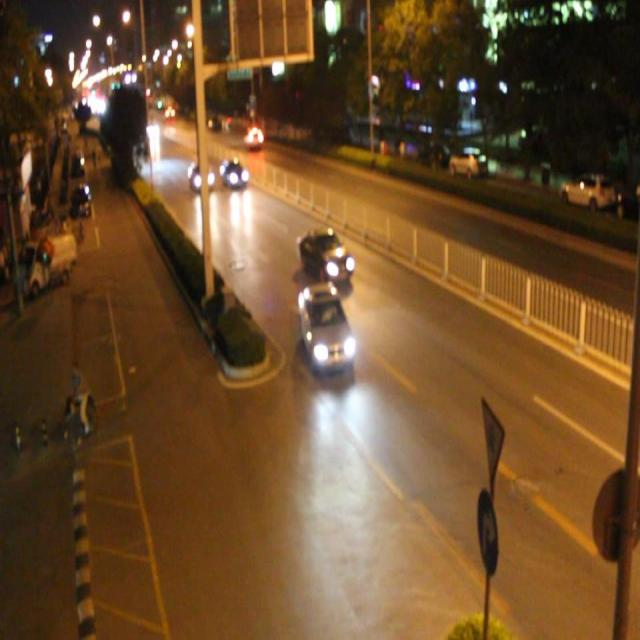car: (296, 283, 354, 370), (298, 225, 352, 286), (220, 156, 247, 189), (188, 160, 215, 192), (242, 122, 264, 148)
